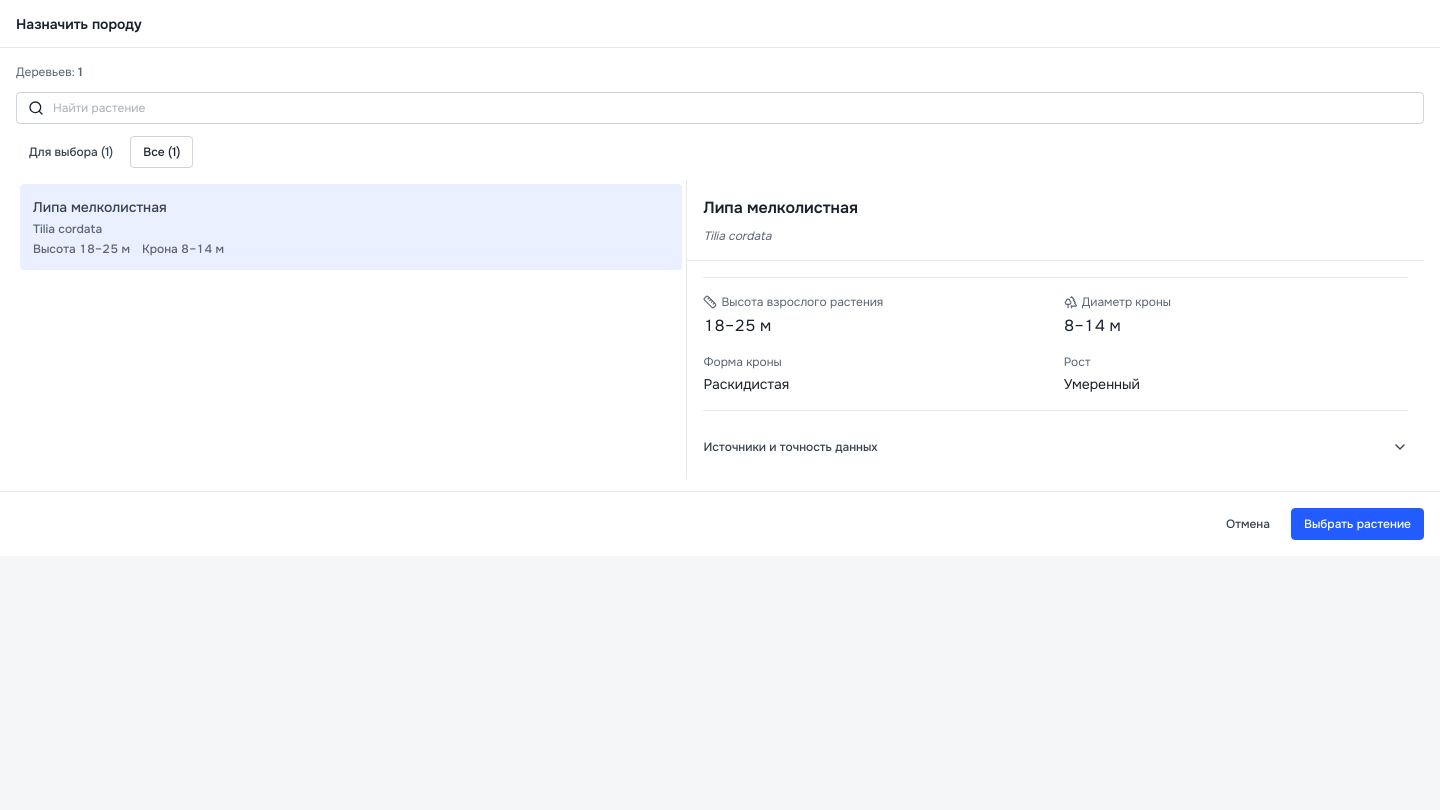
Scenario: SpeciesAssignmentPanel › uses API shortlist status without inferring it from species risk fields
Click the button with aria-label "Сведения: Липа мелколистная".
click(100, 207)  # box [20, 184, 682, 270]
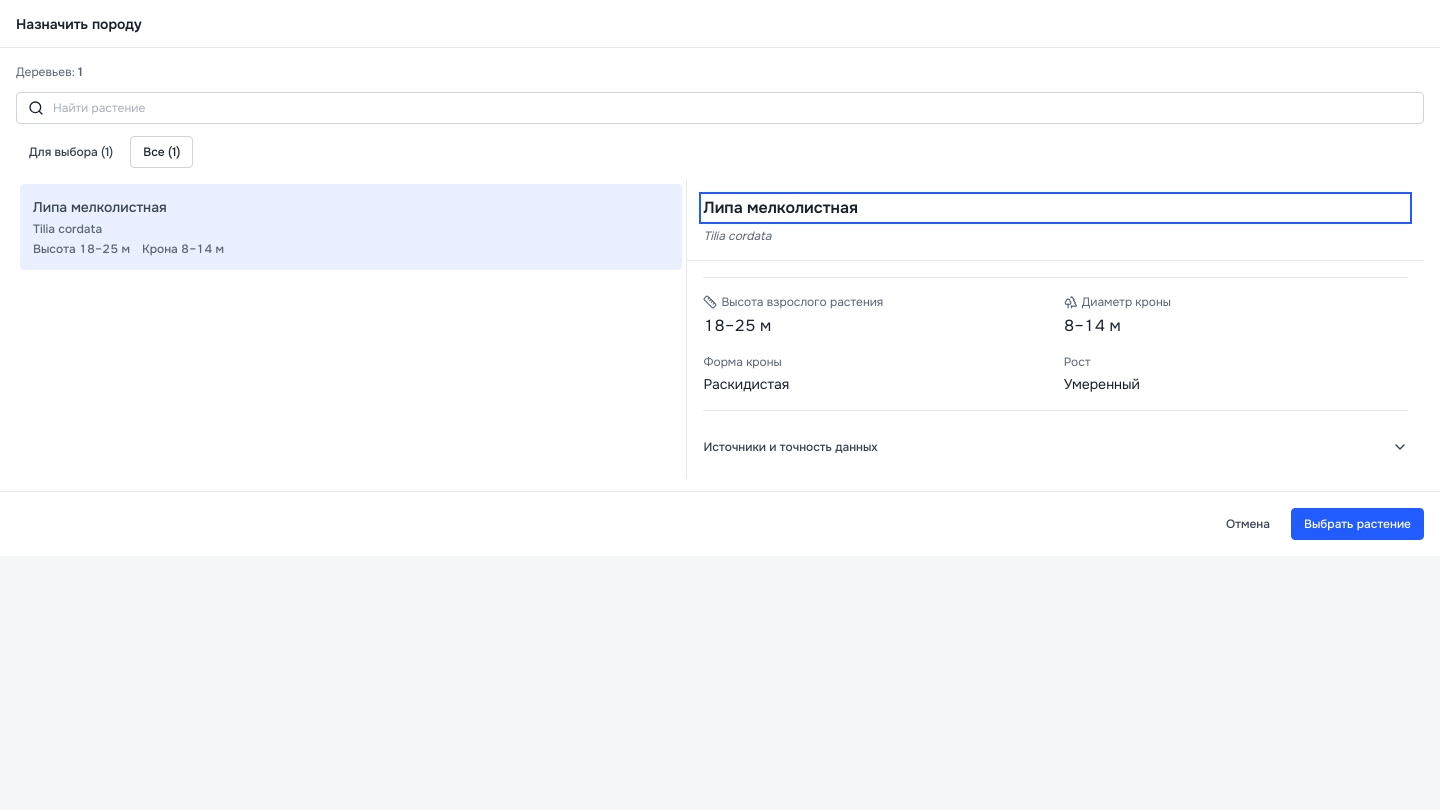
Click the button "Выбрать растение".
click(1358, 524)  # box [1291, 508, 1424, 540]
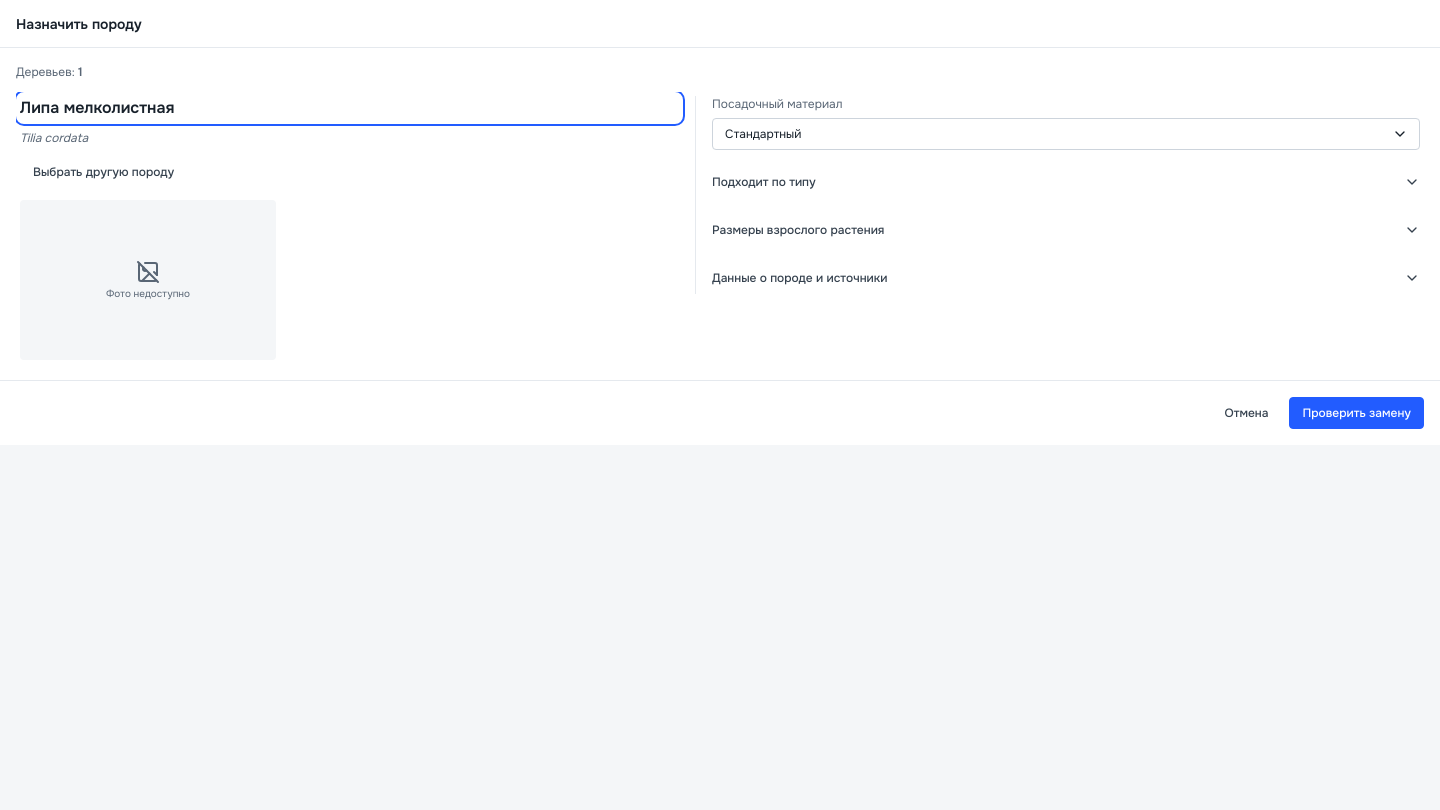
Expected: the text "Соответствует типу выбранных посадочных мест" is not shown
Expected: the text "Подходит по типу" is shown, [712, 174, 816, 190]
Click the button "Подходит по типу".
click(764, 182)  # box [712, 166, 1420, 198]
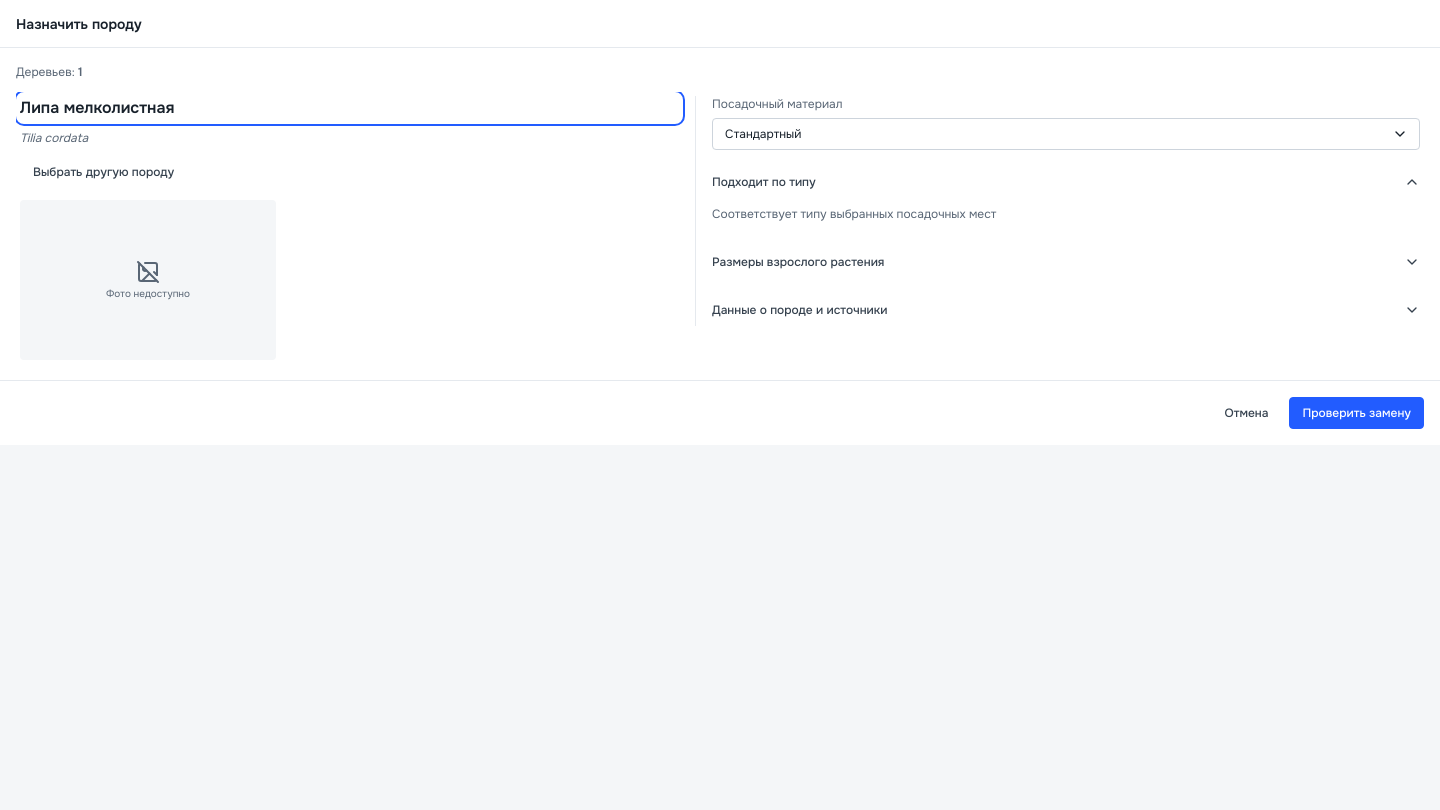
Expected: the text "Соответствует типу выбранных посадочных мест" is shown, [712, 206, 996, 222]
